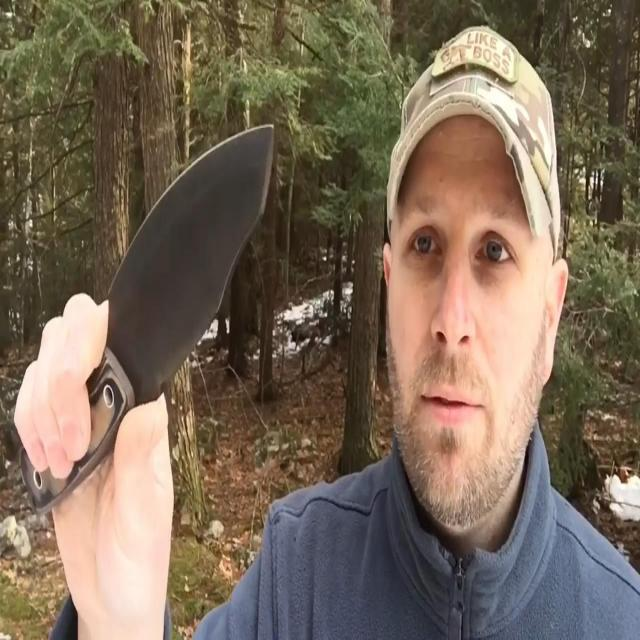Knife: (46, 115, 283, 478)
